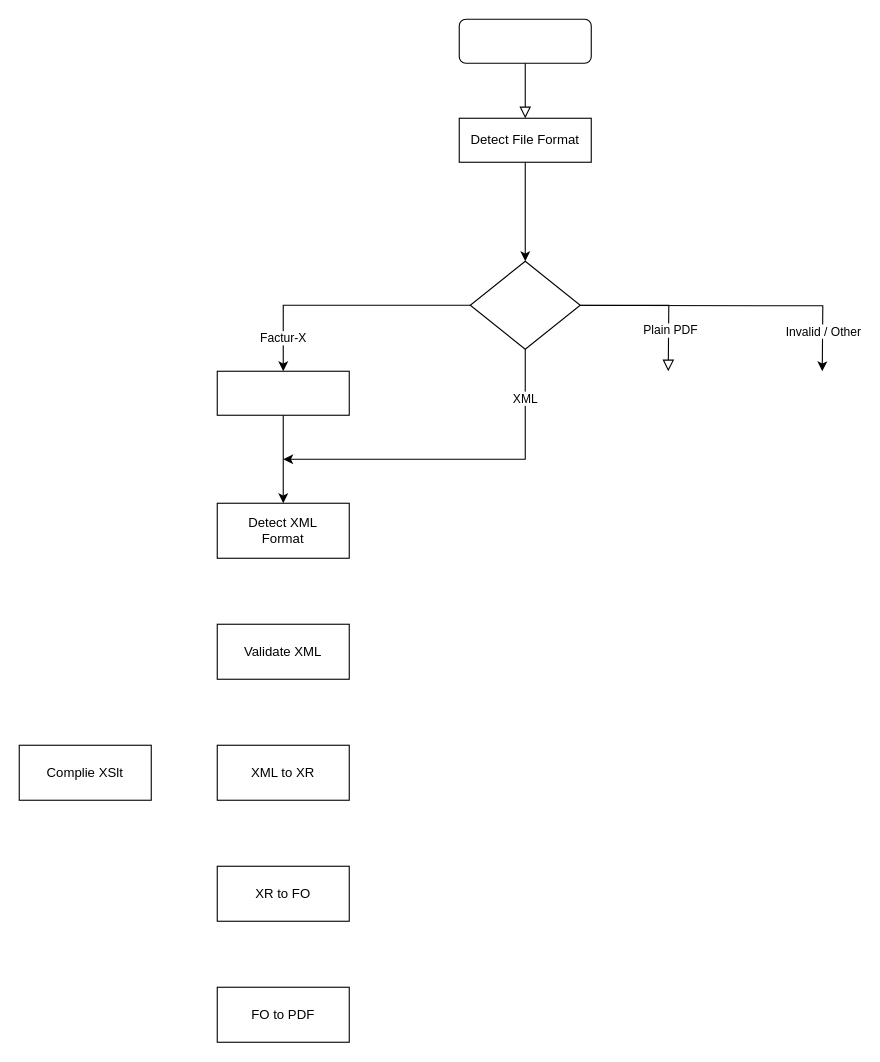
Some shapes in this 880 by 1062 pixel diagram are drawn without their labels. The centre of each missing label's shape, as x and y in pixels:
Extract XML: point 282,392
File Uploaded: point 524,40
Format: point 524,304
